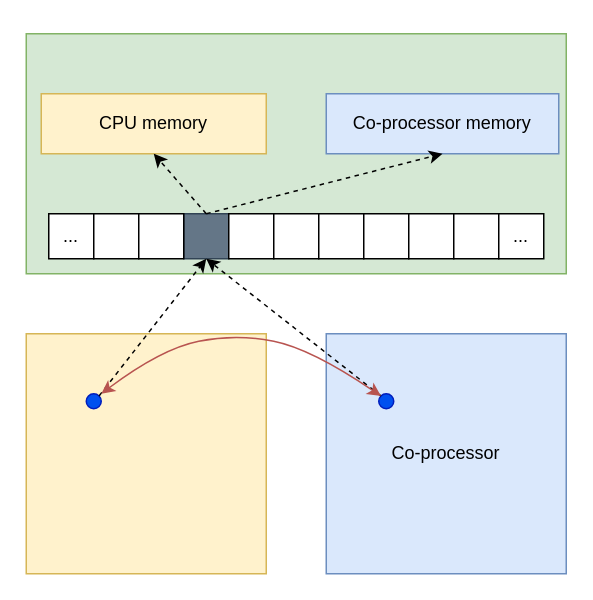
The diagram is 593 pixels wide and 600 high, and some of its shapes have lost their labels. Here are the shapes that lost their labels. From the top down, the box of each, then its label:
(25, 32, 566, 274): Unified virtual address space
(25, 332, 266, 574): Host
